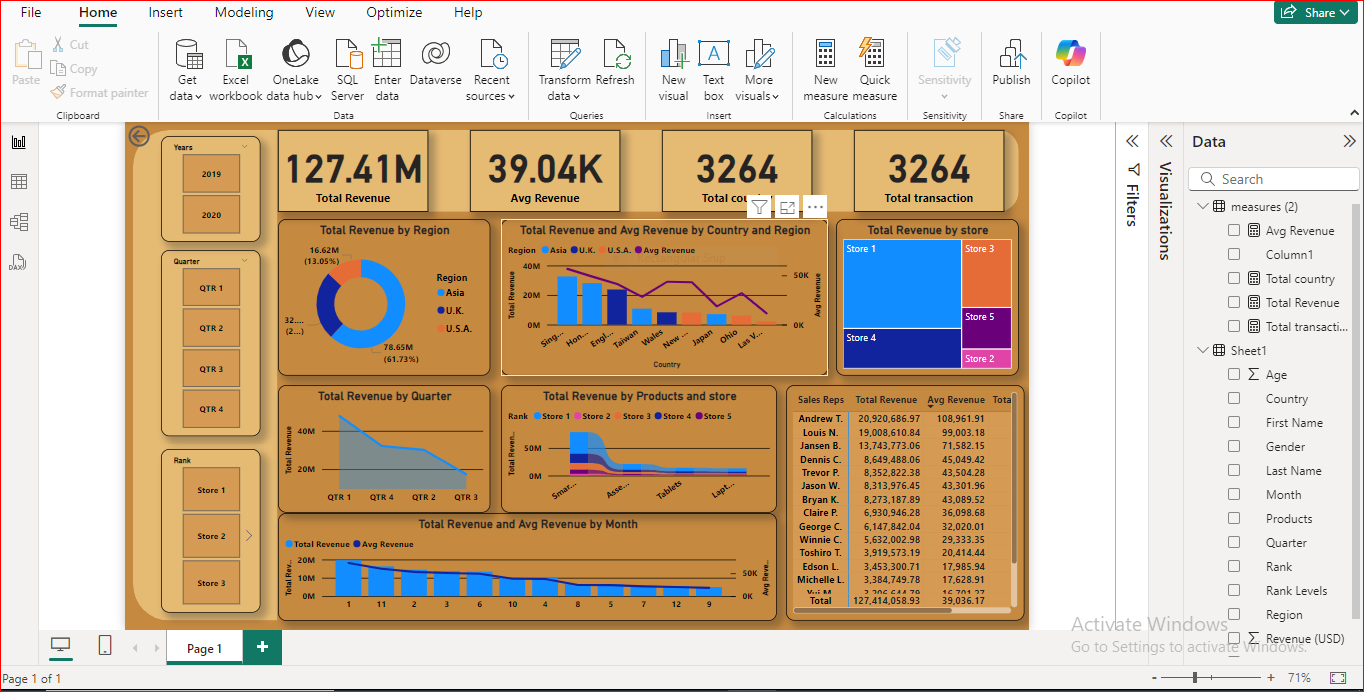

Layout of this report page (visuals, bound fields, positions):
{"tool":"powerbi","page":{"name":"Page 1","canvas":[1280,720],"ordinal":0},"visuals":[{"type":"shape","box":[11.8,11.8,204.9,695.4],"z":0},{"type":"shape","box":[216.7,11.8,1049.9,115.9],"z":1000},{"type":"card","fields":{"Values":["measures (2).Total Revenue"]},"box":[216.9,11.3,212.6,116.2],"z":2000},{"type":"card","fields":{"Values":["measures (2).Avg Revenue"]},"box":[489,11.3,212.6,116.2],"z":3000},{"type":"card","fields":{"Values":["measures (2).Total country"]},"box":[761.1,11.3,212.6,116.2],"z":4000},{"type":"card","fields":{"Values":["measures (2).Total transaction"]},"box":[1033.2,11.3,212.6,116.2],"z":5000},{"type":"donutChart","fields":{"Y":["measures (2).Total Revenue"],"Category":["Sheet1.Region"]},"box":[216.7,137.7,300.7,221.7],"z":6000},{"type":"lineStackedColumnComboChart","fields":{"Category":["Sheet1.Country"],"Y":["measures (2).Total Revenue"],"Y2":["measures (2).Avg Revenue"],"Series":["Sheet1.Region"]},"box":[532.5,137.7,463.6,221.7],"z":7000},{"type":"treemap","title":"Total Revenue by store","fields":{"Values":["measures (2).Total Revenue"],"Group":["Sheet1.Rank"]},"box":[1007.9,137.7,258.7,221.7],"z":8000},{"type":"areaChart","fields":{"Y":["measures (2).Total Revenue"],"Category":["Sheet1.Quarter"]},"box":[216.7,372.9,300.7,181.4],"z":9000},{"type":"ribbonChart","title":"Total Revenue by Products and store","fields":{"Y":["measures (2).Total Revenue"],"Category":["Sheet1.Products"],"Series":["Sheet1.Rank"]},"box":[532.5,372.9,391.4,181.4],"z":10000},{"type":"pivotTable","fields":{"Rows":["Sheet1.Sales Reps"],"Values":["measures (2).Total Revenue","measures (2).Avg Revenue","measures (2).Total transaction"]},"box":[937.3,372.9,337.6,334.3],"z":11000},{"type":"actionButton","box":[0,0,100,40],"z":12000},{"type":"lineStackedColumnComboChart","fields":{"Y":["measures (2).Total Revenue"],"Y2":["measures (2).Avg Revenue"],"Category":["Sheet1.Month"]},"box":[216.7,554.3,707.2,152.9],"z":13000},{"type":"slicer","fields":{"Values":["Sheet1.Years"]},"box":[50.4,20.2,141.1,149.5],"z":14000},{"type":"slicer","fields":{"Values":["Sheet1.Quarter"]},"box":[50.4,181.4,141.1,263.7],"z":15000},{"type":"slicer","fields":{"Values":["Sheet1.Rank"]},"box":[50.4,463.6,141.1,231.8],"z":16000}]}

Visuals, with their boxes on the page's 1280x720 design canvas (x1, y1, x2, y2). These are canvas units, not pixel positions in the 1364x692 screenshot, which may show the page scaled, cropped or inside an application window:
shape: 12, 12, 217, 707
shape: 217, 12, 1267, 128
card - measures (2).Total Revenue: 217, 11, 430, 128
card - measures (2).Avg Revenue: 489, 11, 702, 128
card - measures (2).Total country: 761, 11, 974, 128
card - measures (2).Total transaction: 1033, 11, 1246, 128
donutChart - measures (2).Total Revenue x Sheet1.Region: 217, 138, 517, 359
lineStackedColumnComboChart - Sheet1.Country x measures (2).Total Revenue: 532, 138, 996, 359
"Total Revenue by store" treemap: 1008, 138, 1267, 359
areaChart - measures (2).Total Revenue x Sheet1.Quarter: 217, 373, 517, 554
"Total Revenue by Products and store" ribbonChart: 532, 373, 924, 554
pivotTable - Sheet1.Sales Reps x measures (2).Total Revenue: 937, 373, 1275, 707
actionButton: 0, 0, 100, 40
lineStackedColumnComboChart - measures (2).Total Revenue x measures (2).Avg Revenue: 217, 554, 924, 707
slicer - Sheet1.Years: 50, 20, 192, 170
slicer - Sheet1.Quarter: 50, 181, 192, 445
slicer - Sheet1.Rank: 50, 464, 192, 695
